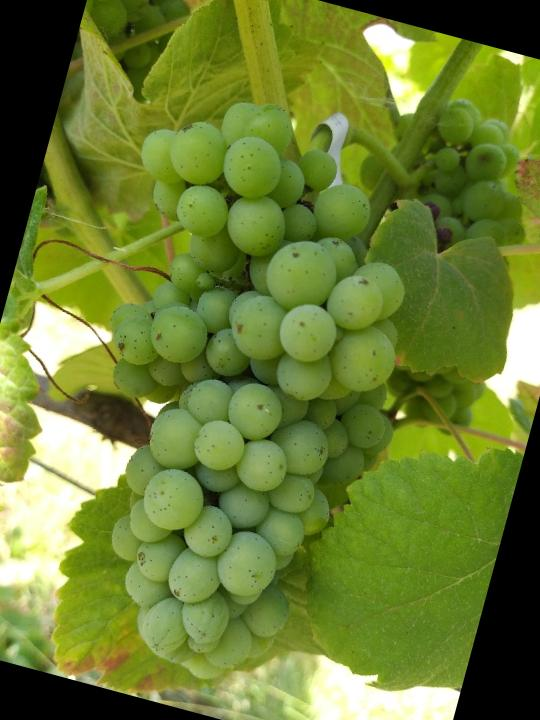grape: (12, 73, 471, 715)
